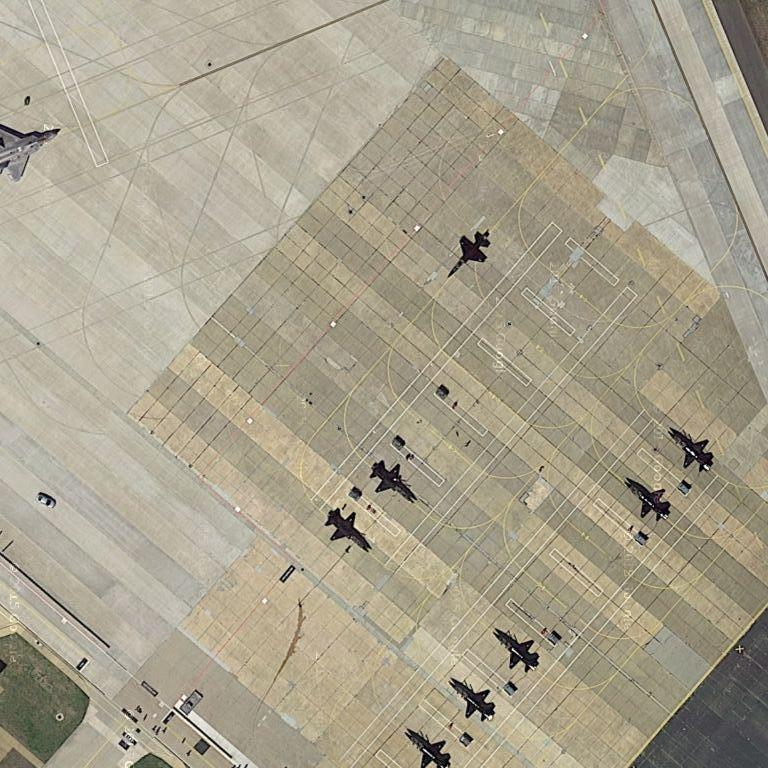F-22: (2, 119, 64, 181)
plane: (443, 225, 496, 281), (365, 460, 422, 504), (490, 629, 546, 672), (666, 428, 719, 473), (624, 479, 676, 524), (446, 679, 499, 723), (322, 508, 372, 553), (401, 729, 455, 768)
